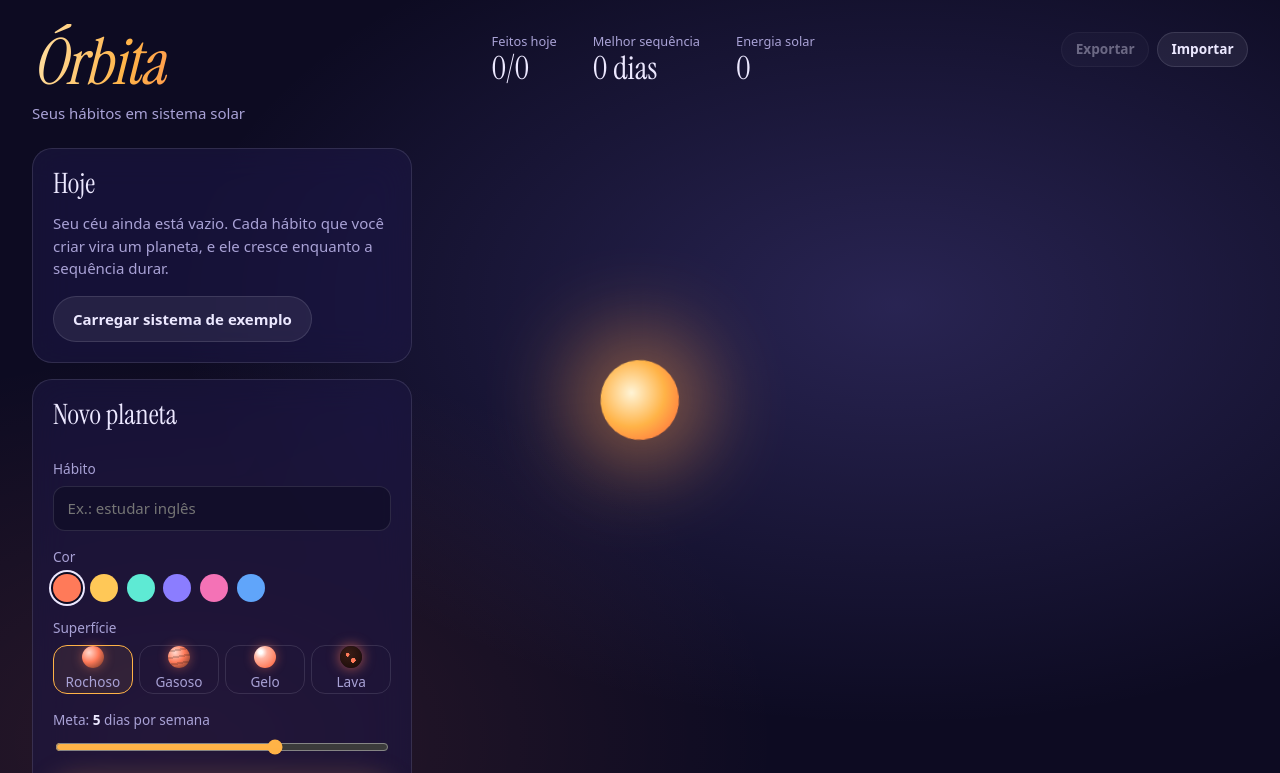
Test: aplicação Órbita › cria um planeta, abre seus detalhes e salva no repositório
Step 1. Type "Estudar inglês" into the field labelled "Hábito" → (222, 508), box [53, 486, 391, 531]
(page scrolled)
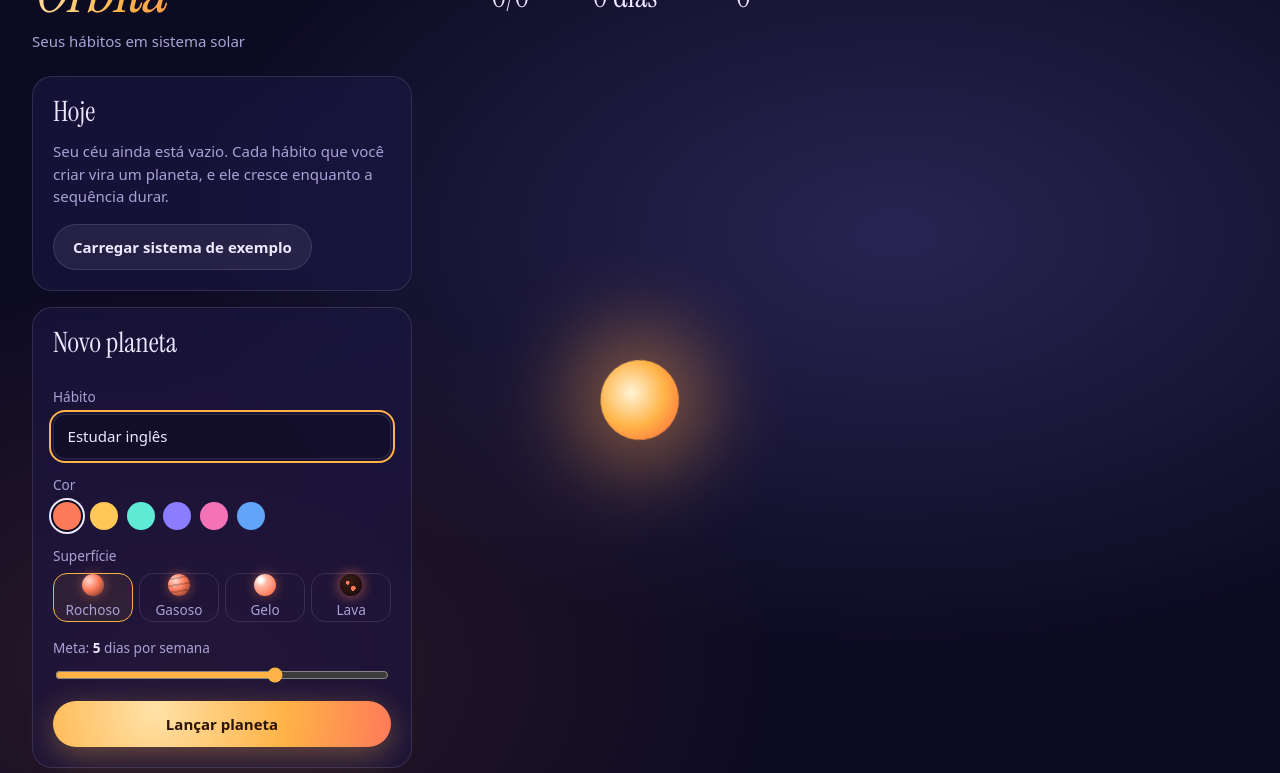
Step 2. Click the button "Lançar planeta" → (222, 724), box [53, 701, 391, 747]
(page scrolled)
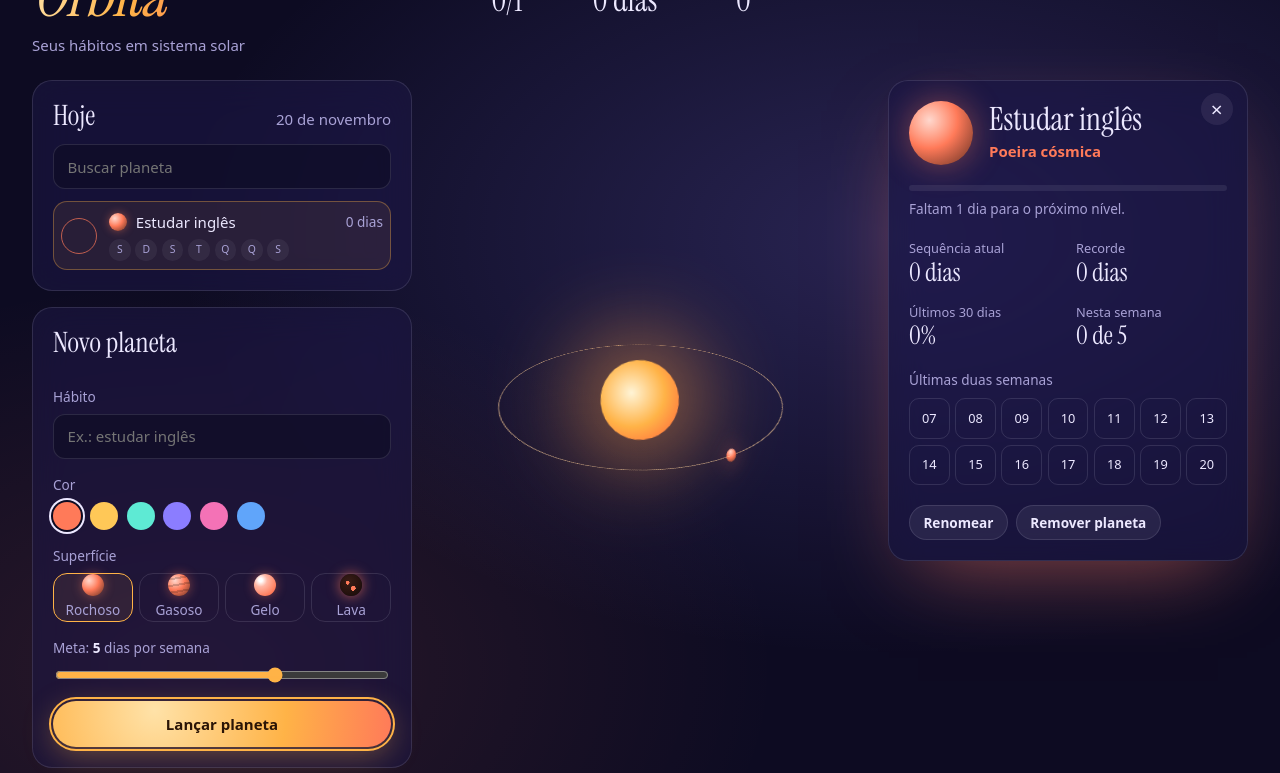
Expected: the element named "Detalhes de Estudar inglês" is shown, [888, 80, 1248, 562]
